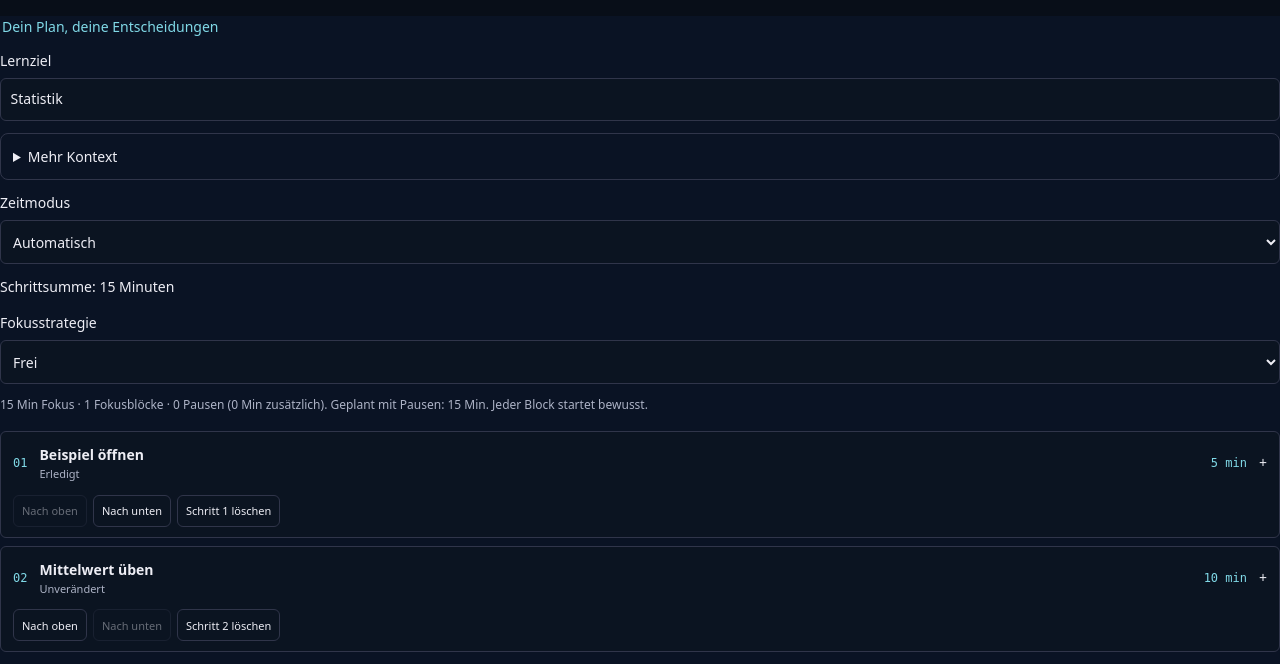
Test: kompakter Lernplaneditor › öffnet jeweils nur einen Schritt und schließt ihn wieder
Check: the field labelled "Titel" is not shown
What coordinates should you click on to do the following:
click the button with aria-label "Schritt 1 bearbeiten:"
I would click on:
 (92, 454)
Its box is [1,432,1279,494].
(page scrolled)
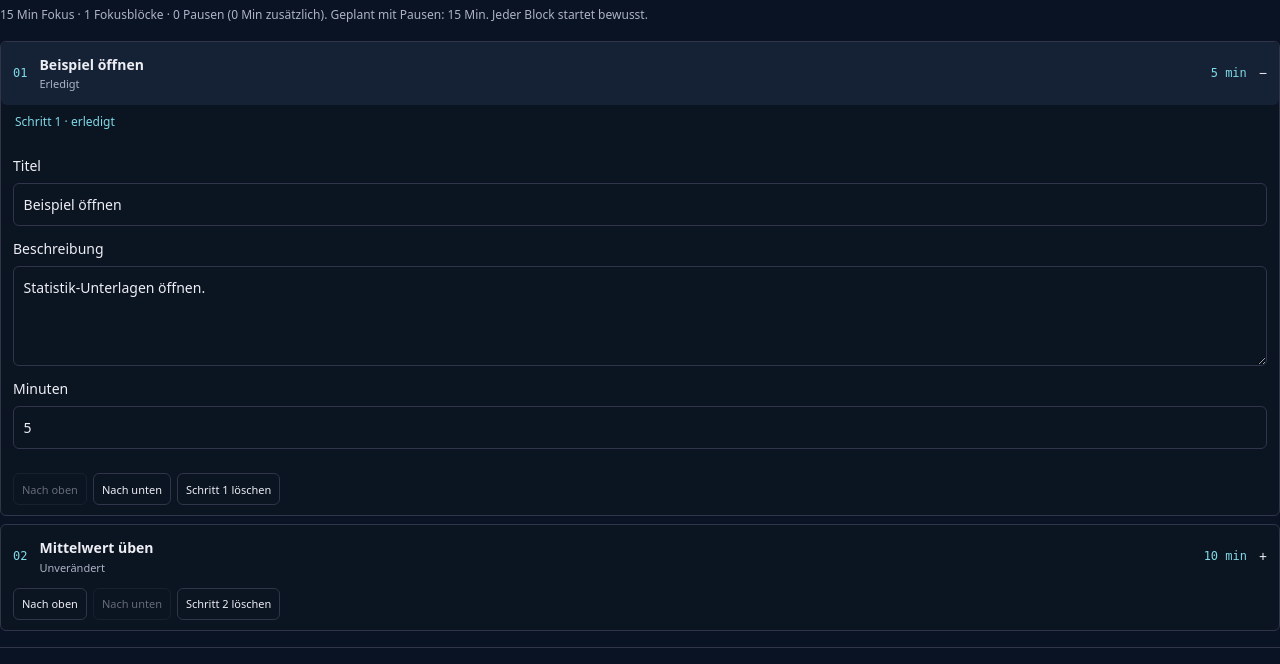
Check: the button with aria-label "Schritt 1 bearbeiten:" is expanded, box [1,42,1279,104]
Check: the field labelled "Titel" holds "Beispiel öffnen", box [13,183,1267,226]
What coordinates should you click on to do the following:
click the button with aria-label "Schritt 2 bearbeiten:"
I would click on:
 (96, 548)
Its box is [1,525,1279,588].
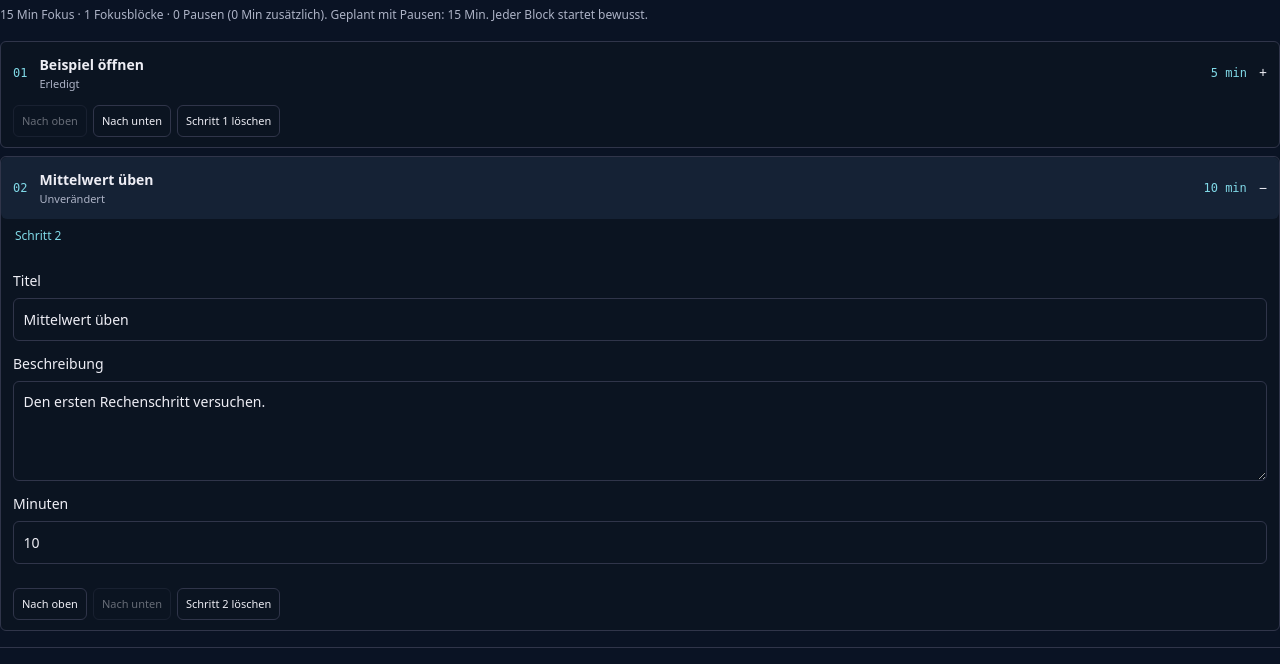
Check: the number of fields labelled "Titel" is 1, box [13,298,1267,341]
Check: the button with aria-label "Schritt 1 bearbeiten:" is collapsed, box [1,42,1279,104]
What coordinates should you click on to do the following:
click the button with aria-label "Schritt 2 bearbeiten:"
I would click on:
 (96, 179)
Its box is [1,156,1279,219].
(page scrolled)
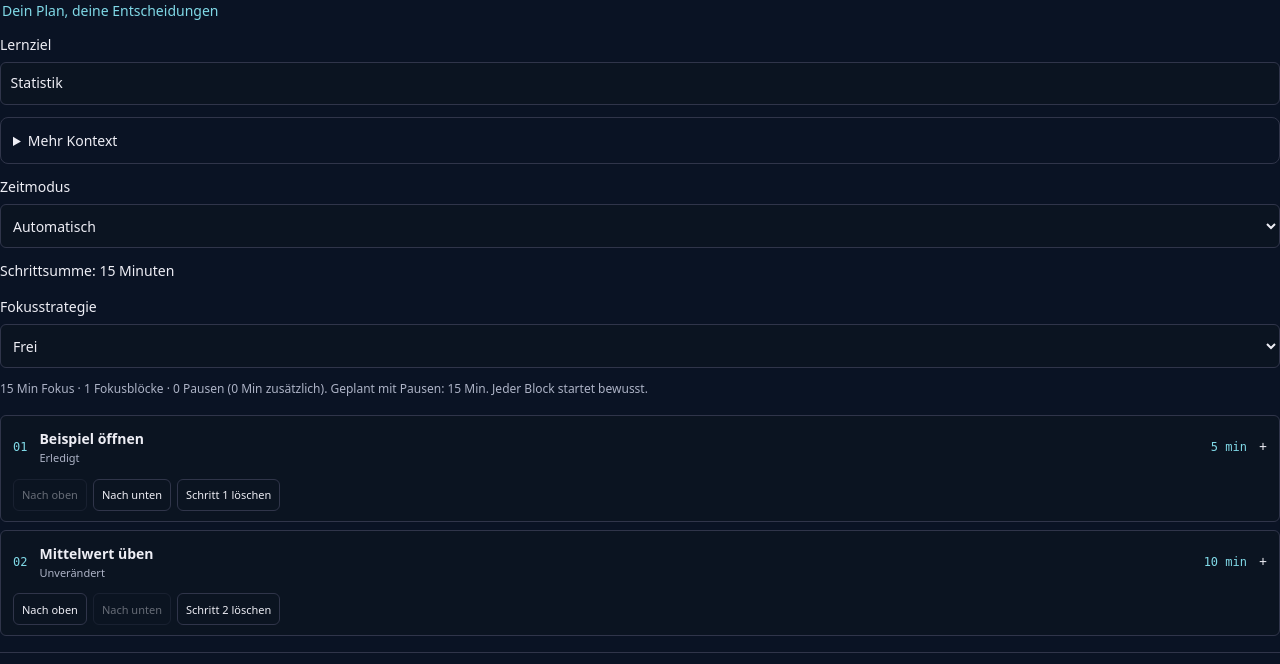
Check: the label labelled "Titel" is gone
